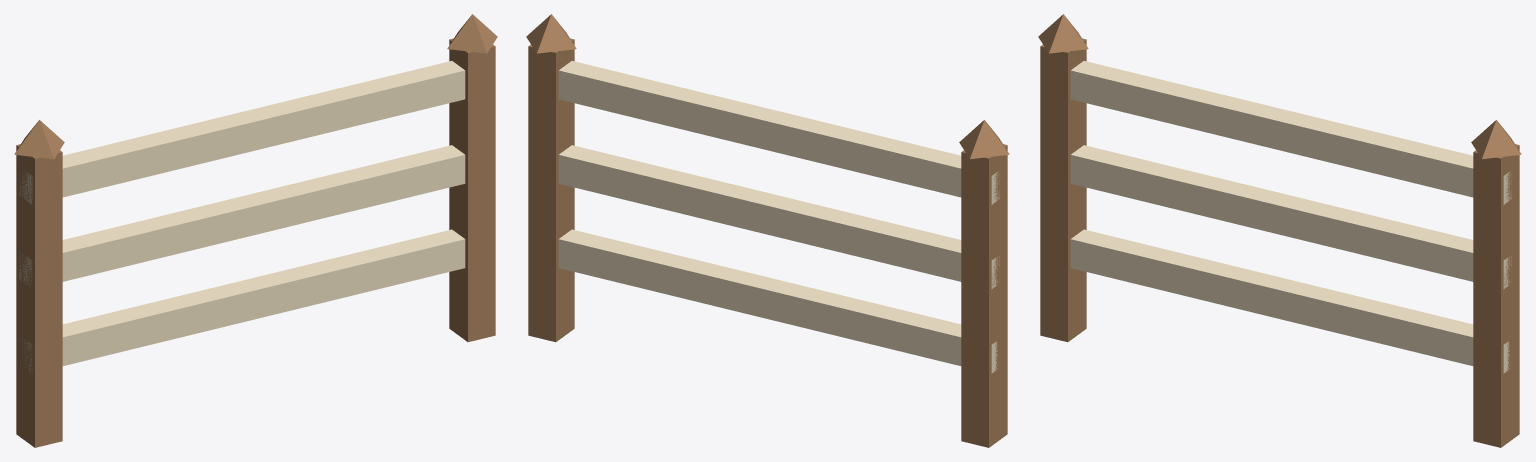
Rendered from frontier-split-rail-fence__135.glb.
3 renders of one model, left to right at view 1: azimuth 30°, elevation 25°; view 2: azimuth 150°, elevation 25°; view 3: azimuth 330°, elevation 25°, orthographic.
Parts seen in each view (by area): view 1: frontier-post-rail-fence; view 2: frontier-post-rail-fence; view 3: frontier-post-rail-fence.
Boxes of the visible parts, bbox=[...] form: frontier-post-rail-fence: bbox=[14, 14, 497, 447]; frontier-post-rail-fence: bbox=[526, 14, 1009, 447]; frontier-post-rail-fence: bbox=[1038, 14, 1521, 447].
Size of the model in its own units: 2.1 by 1.32 by 0.22.
